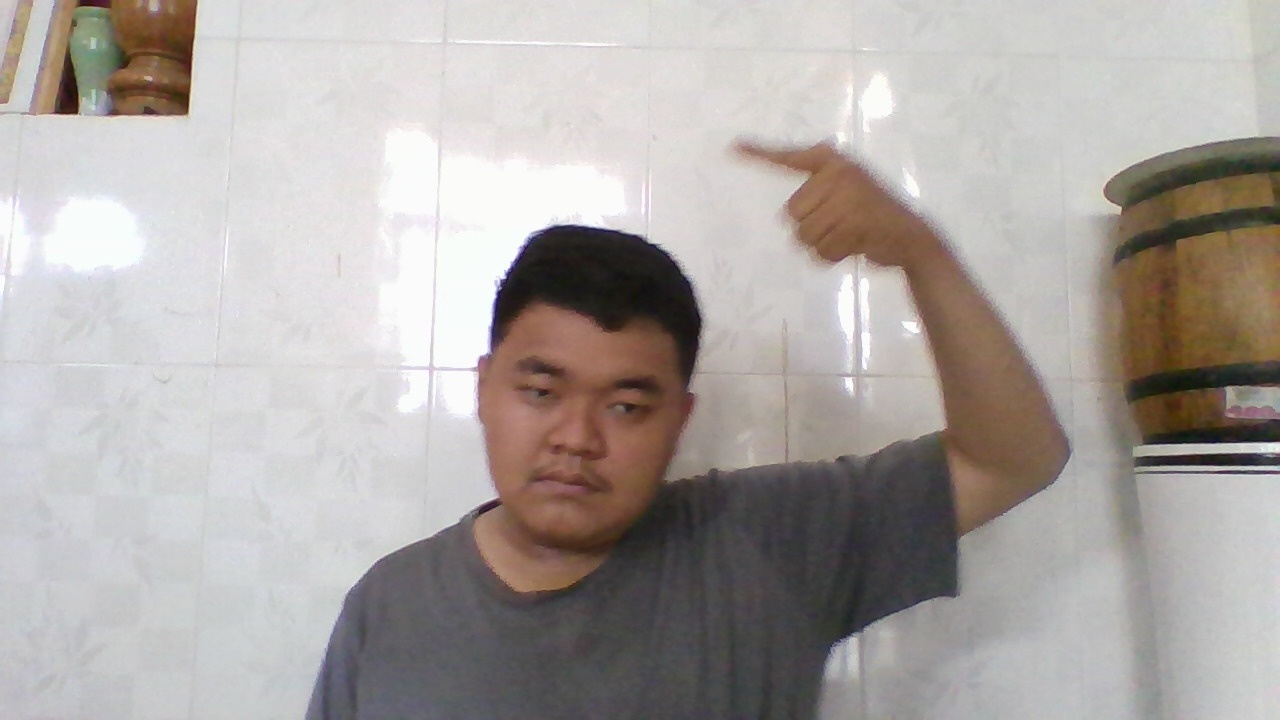G: (724, 130, 933, 269)
